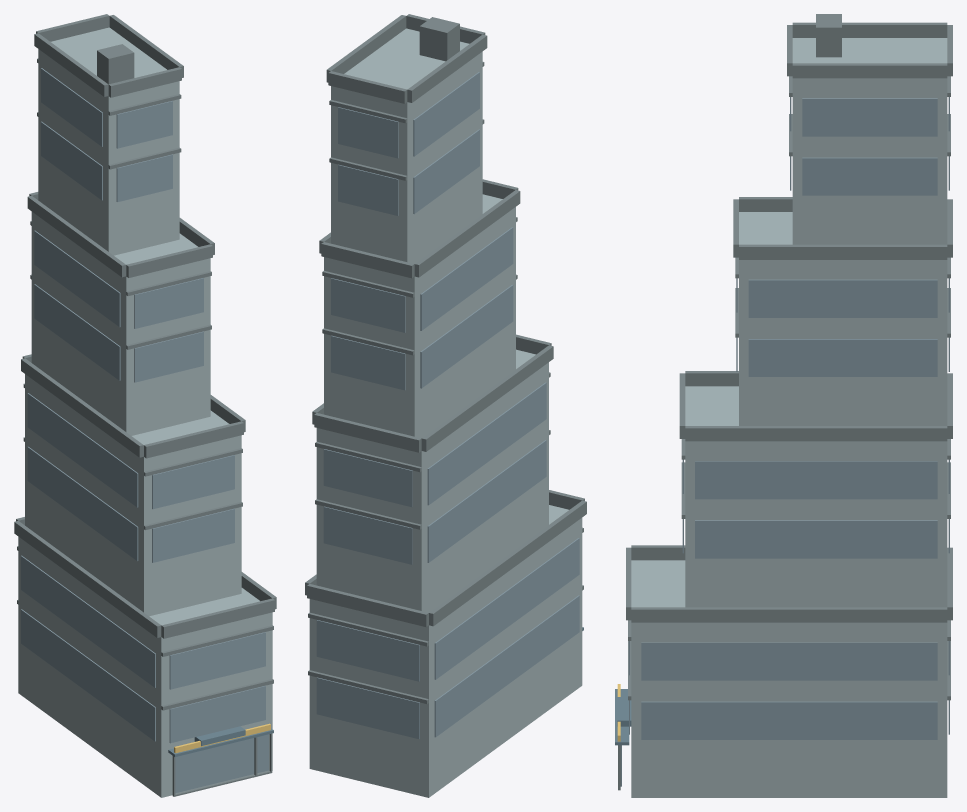
File: commercial_1x2_terraces.glb
The picture shows the model from 3 angles, left to right: view 1: azimuth 30°, elevation 25°; view 2: azimuth 150°, elevation 25°; view 3: azimuth 270°, elevation 25°; orthographic projection. The views are drawn at different scales.
Visible parts, largest first — view 1: commercial_1x2_terraces_0; view 2: commercial_1x2_terraces_0; view 3: commercial_1x2_terraces_0.
Boxes of the visible parts, x1,y1,x2,y2 form: commercial_1x2_terraces_0: (14,14,276,797); commercial_1x2_terraces_0: (305,14,586,797); commercial_1x2_terraces_0: (615,14,952,797).
Size of the model in its own units: 7 by 37.5 by 15.5.
